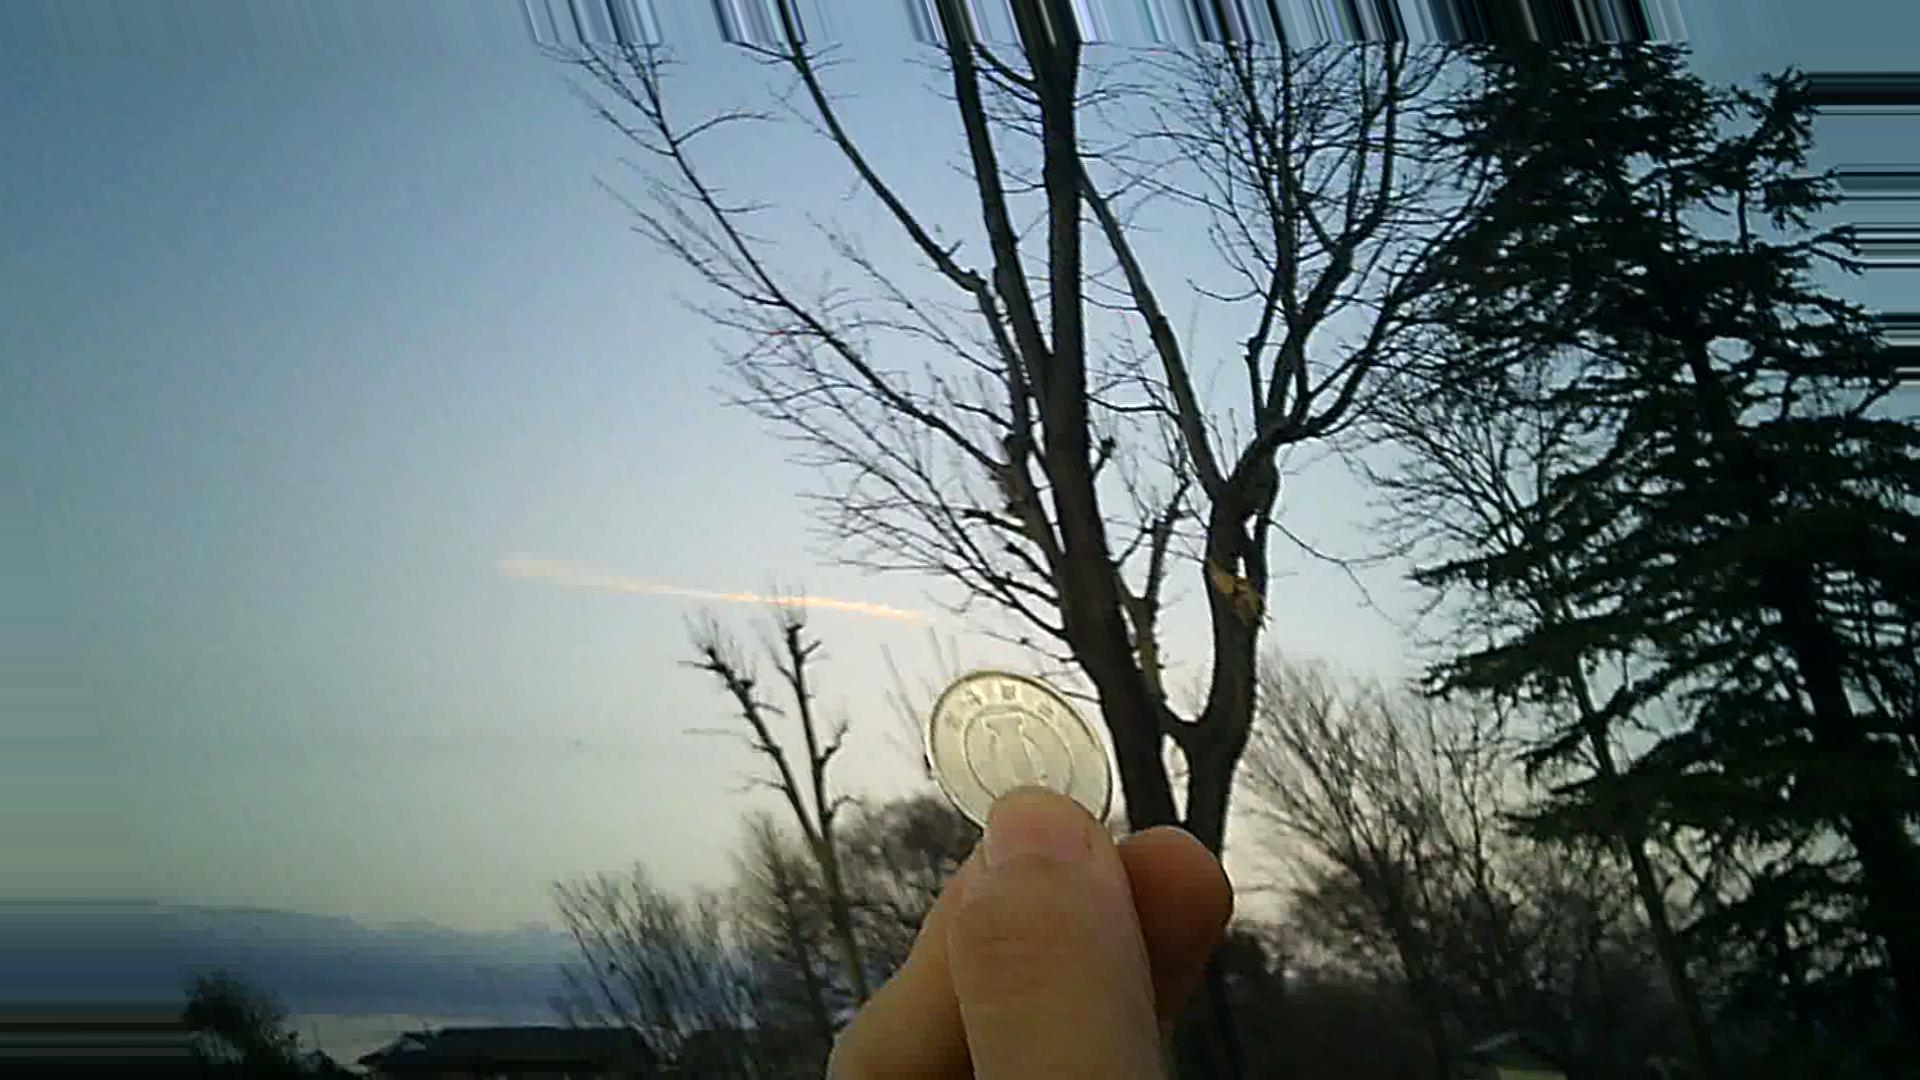1 Yen: (916, 666, 1117, 849)
